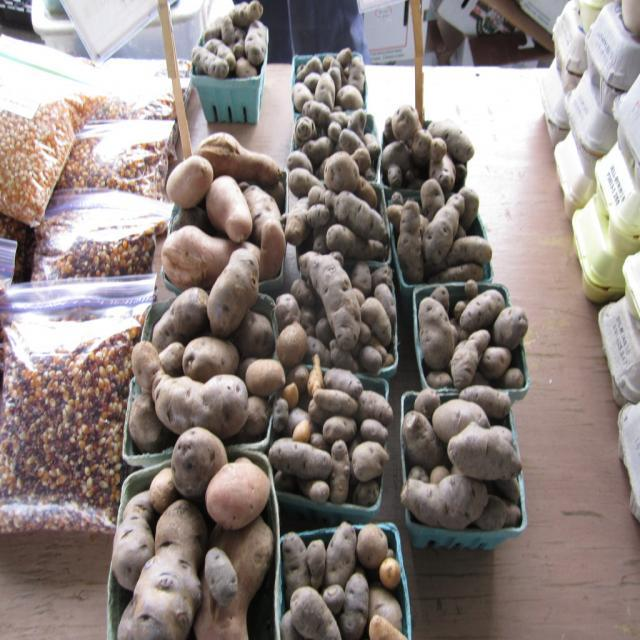Potato: (186, 460, 266, 539)
